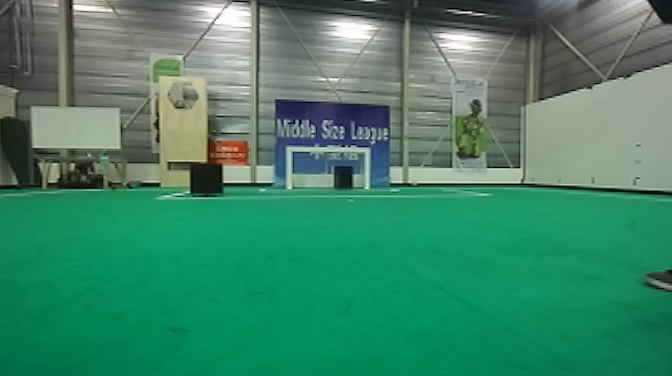goalpost: (361, 146, 373, 189), (283, 146, 293, 186)
